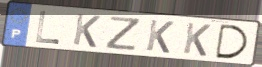D: (214, 23, 251, 60)
K: (144, 18, 176, 56), (181, 21, 213, 58), (71, 13, 102, 50)
L: (34, 10, 61, 46)
Z: (104, 15, 144, 53)
